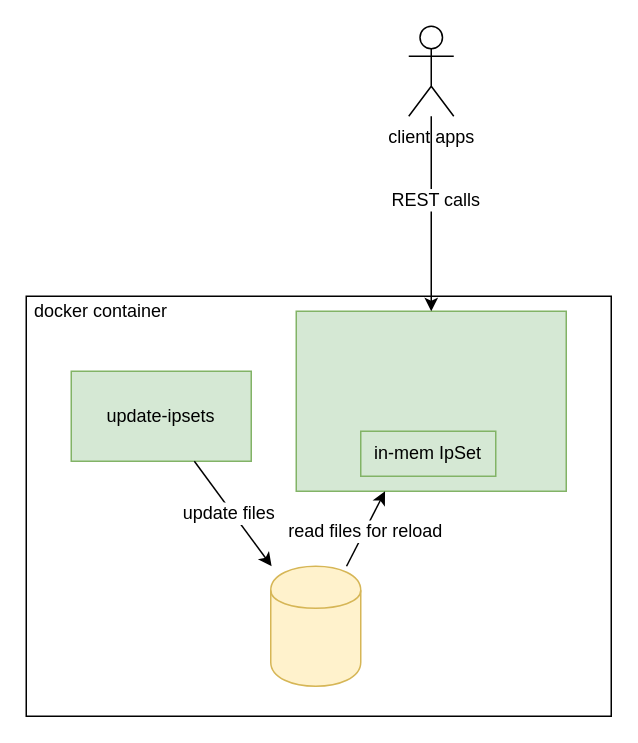
Some shapes in this 638 by 743 pixel diagram are drawn without their labels. Each missing label, with the box of its shape:
anomaly-detections-ip service: (295, 310, 566, 491)
ipset files: (269, 565, 361, 686)
